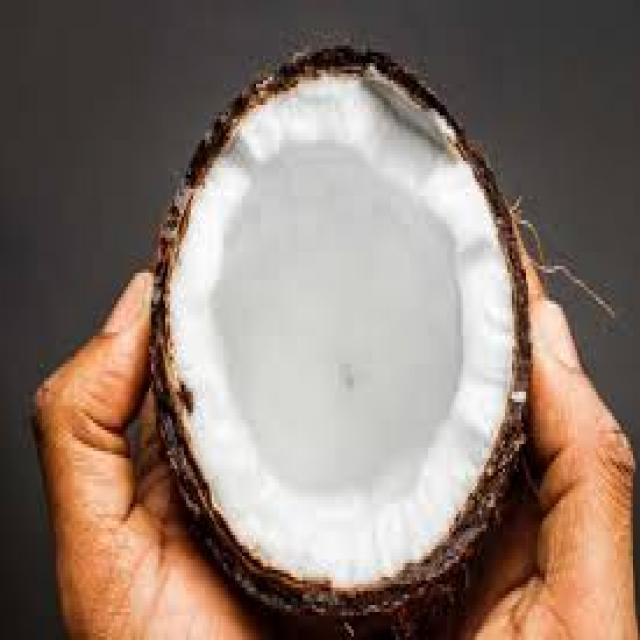coconut: (137, 24, 533, 640)
